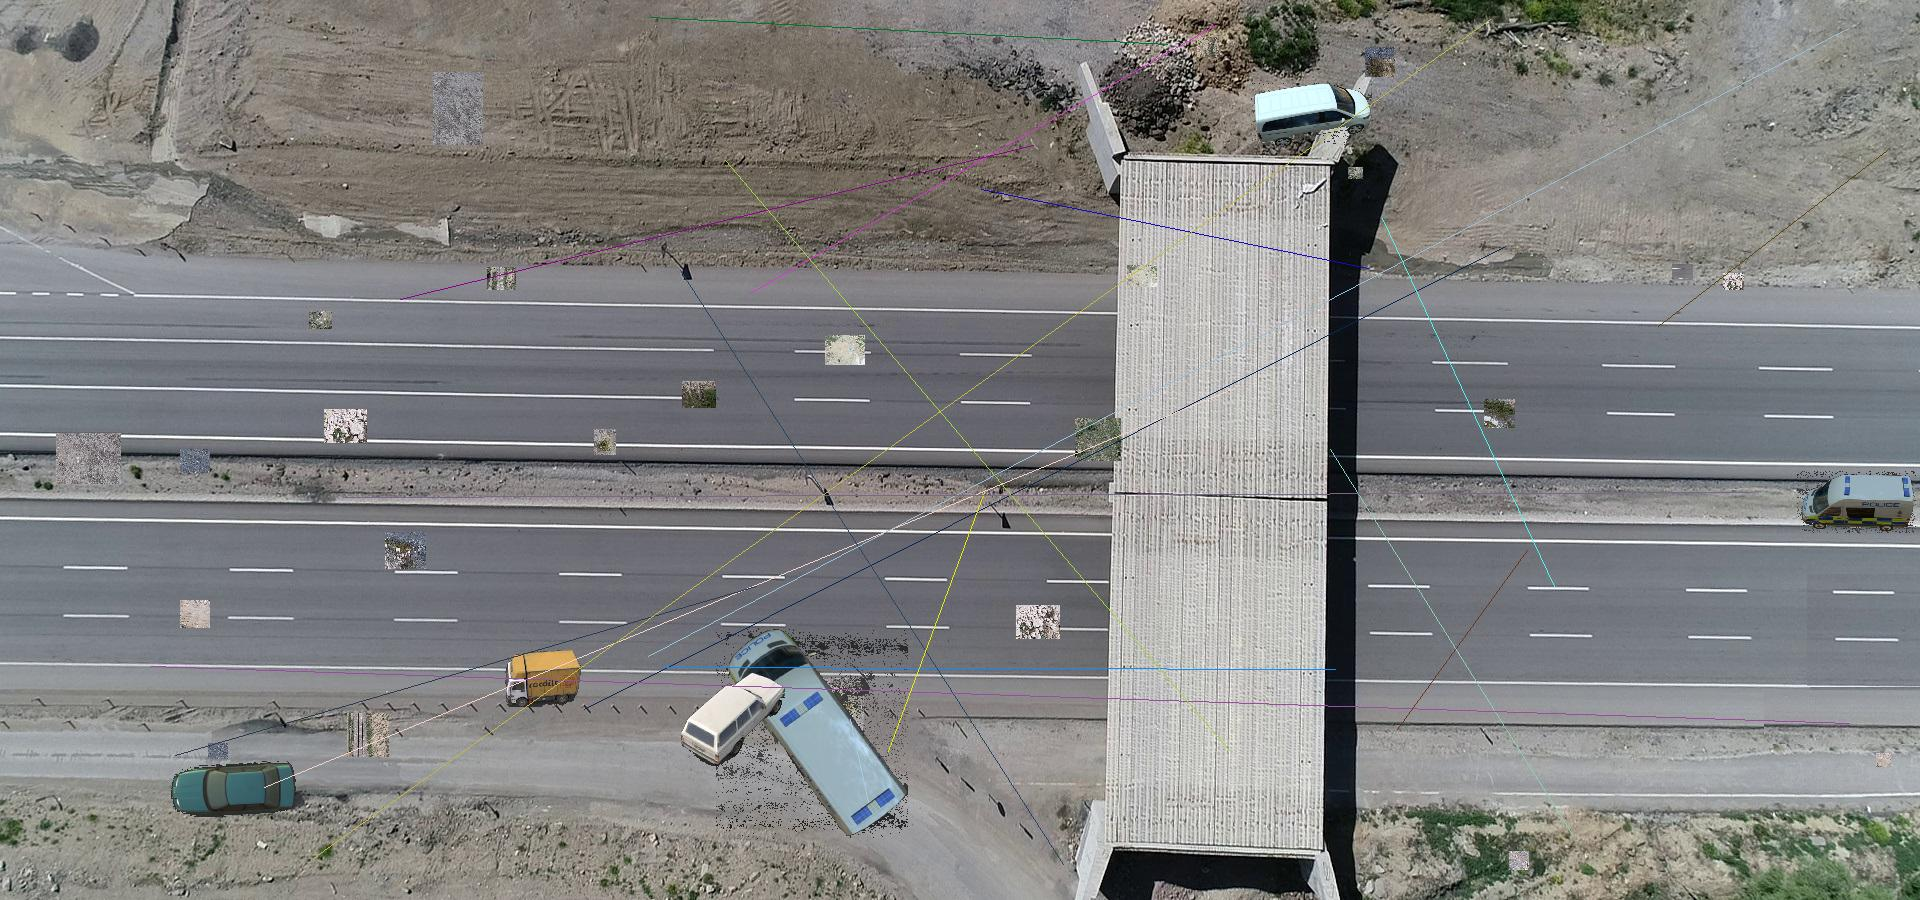arac: (716, 627, 909, 839), (678, 667, 787, 768), (169, 760, 300, 820), (1251, 83, 1371, 146), (1798, 471, 1916, 533), (502, 650, 580, 707)
